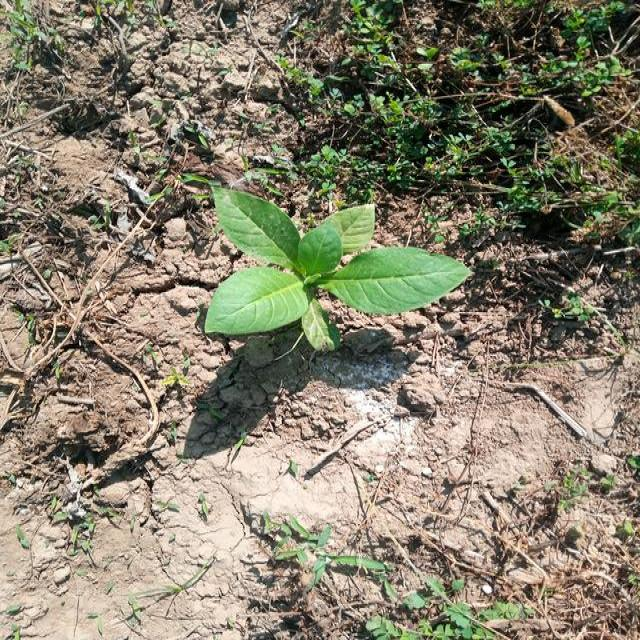crop: (188, 170, 466, 347)
